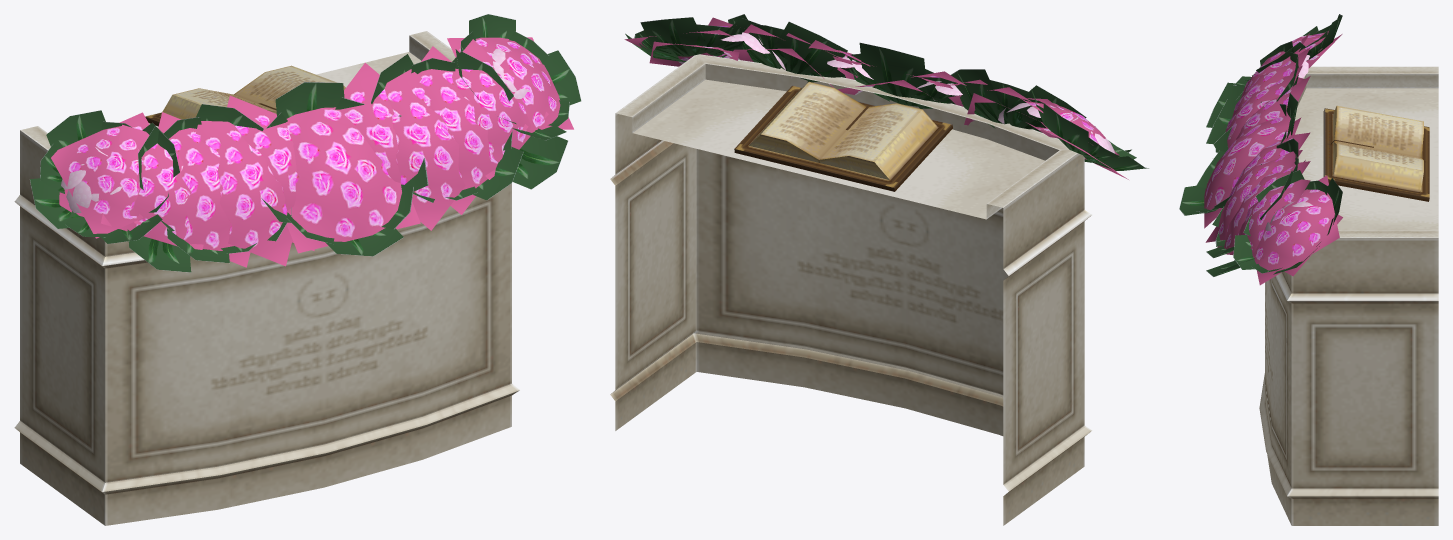
The picture shows the model from 3 angles, left to right: view 1: azimuth 30°, elevation 25°; view 2: azimuth 150°, elevation 25°; view 3: azimuth 270°, elevation 25°; orthographic projection. The views are drawn at different scales.
Parts seen in each view (by area): view 1: a106; view 2: a106; view 3: a106.
Part boxes in pixels (x1,y1,x2,y2): a106: (14,14,581,525); a106: (610,14,1148,525); a106: (1179,14,1438,525).
Bounding box in the file's own units: 317 × 221 × 153.
